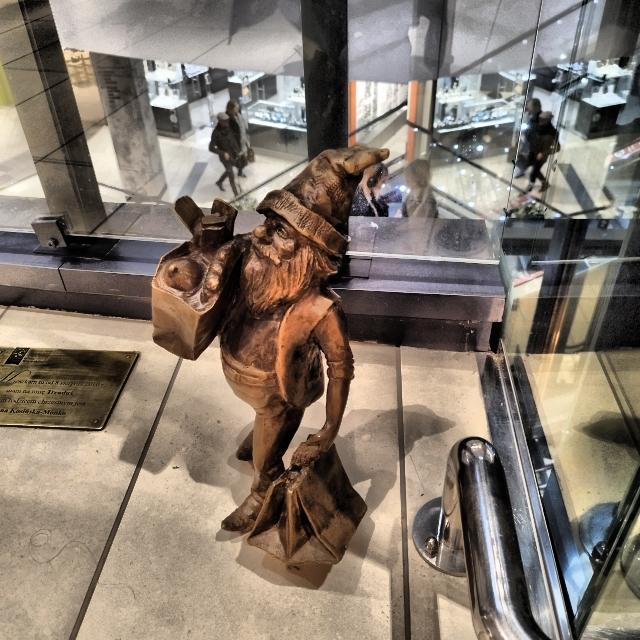Trendus: (152, 145, 390, 568)
